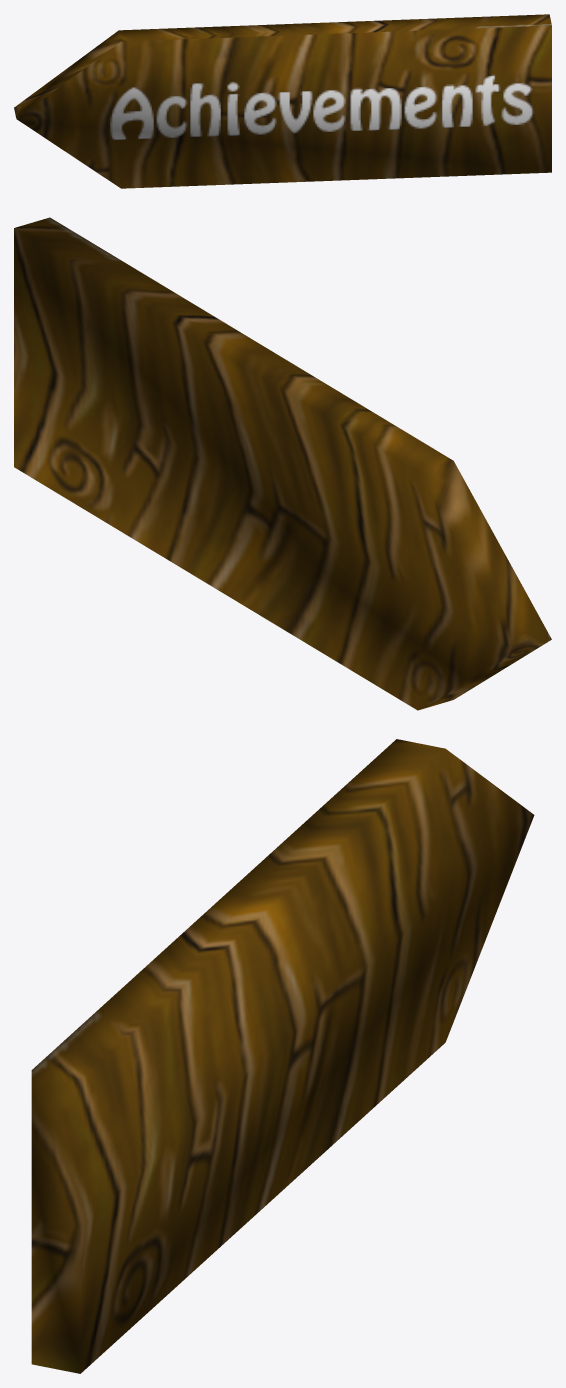
The model's file is achievements.FBX.
The picture shows the model from 3 angles, top to bottom: view 1: azimuth 30°, elevation 25°; view 2: azimuth 150°, elevation 25°; view 3: azimuth 270°, elevation 25°; orthographic projection. The views are drawn at different scales.
Parts seen in each view (by area): view 1: Achievement01; view 2: Achievement01; view 3: Achievement01.
Boxes of the visible parts, x1,y1,x2,y2 form: Achievement01: (14, 14, 551, 188); Achievement01: (14, 217, 551, 710); Achievement01: (31, 739, 534, 1373).
Bounding box in the file's own units: 14.3 × 4.65 × 7.21.
